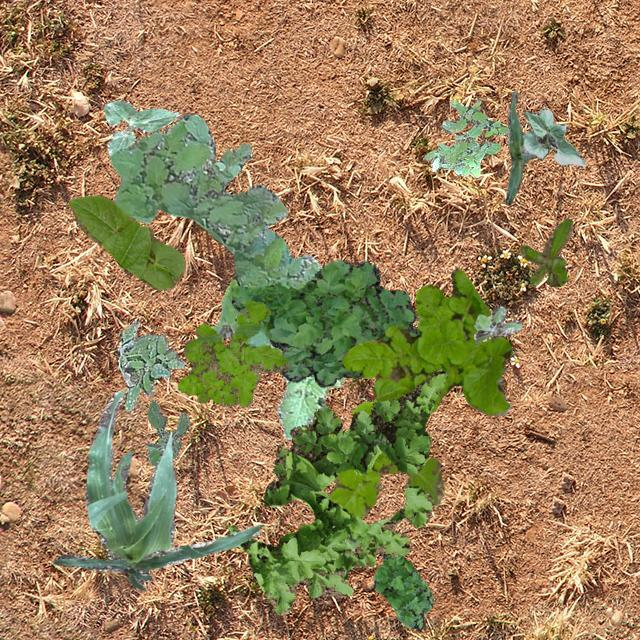crop: (52, 390, 262, 590), (68, 194, 184, 290), (102, 100, 178, 154), (522, 108, 584, 166), (504, 90, 532, 204)
weed: (108, 112, 344, 438), (228, 368, 446, 614), (328, 268, 512, 518), (225, 259, 418, 386), (176, 298, 288, 406), (424, 96, 508, 176), (116, 320, 184, 410), (372, 550, 432, 630), (518, 218, 572, 286), (146, 398, 188, 464), (472, 304, 520, 342)
